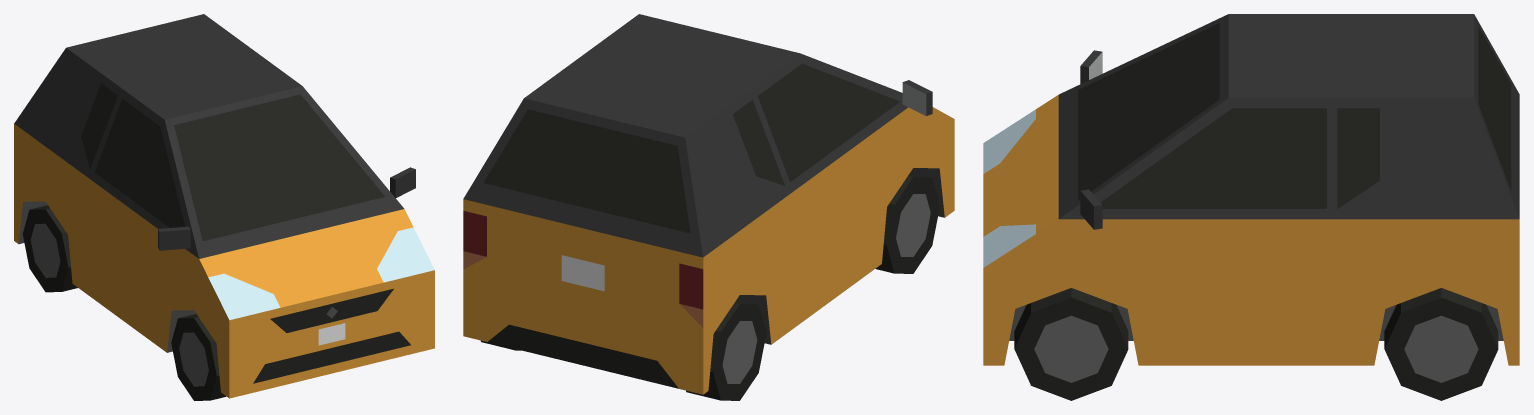
File: Veh_Microcar_Yellow.obj
3 views of the same model, side by side, from view 1: azimuth 30°, elevation 25°; view 2: azimuth 150°, elevation 25°; view 3: azimuth 270°, elevation 25° (orthographic). The views are drawn at different scales.
Bounding box in the file's own units: 0.9194 × 0.7766 × 1.34.
